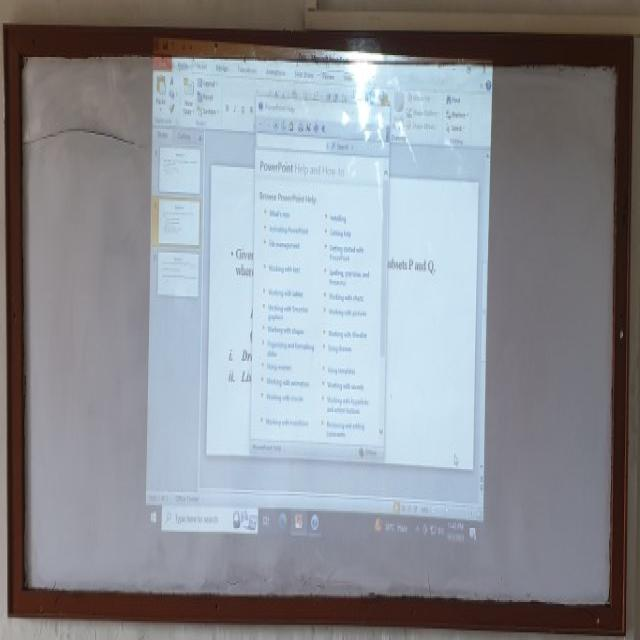Slide: (140, 40, 493, 551)
White-board: (13, 40, 628, 623)
